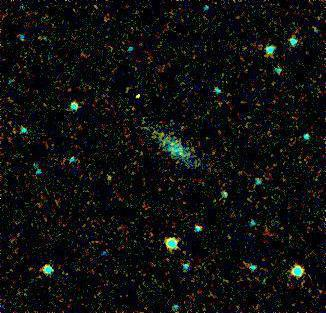star: (120, 81, 150, 111)
